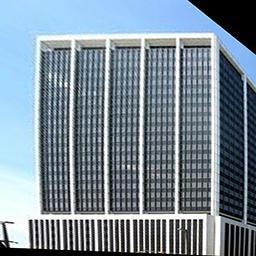building: (34, 32, 216, 254)
